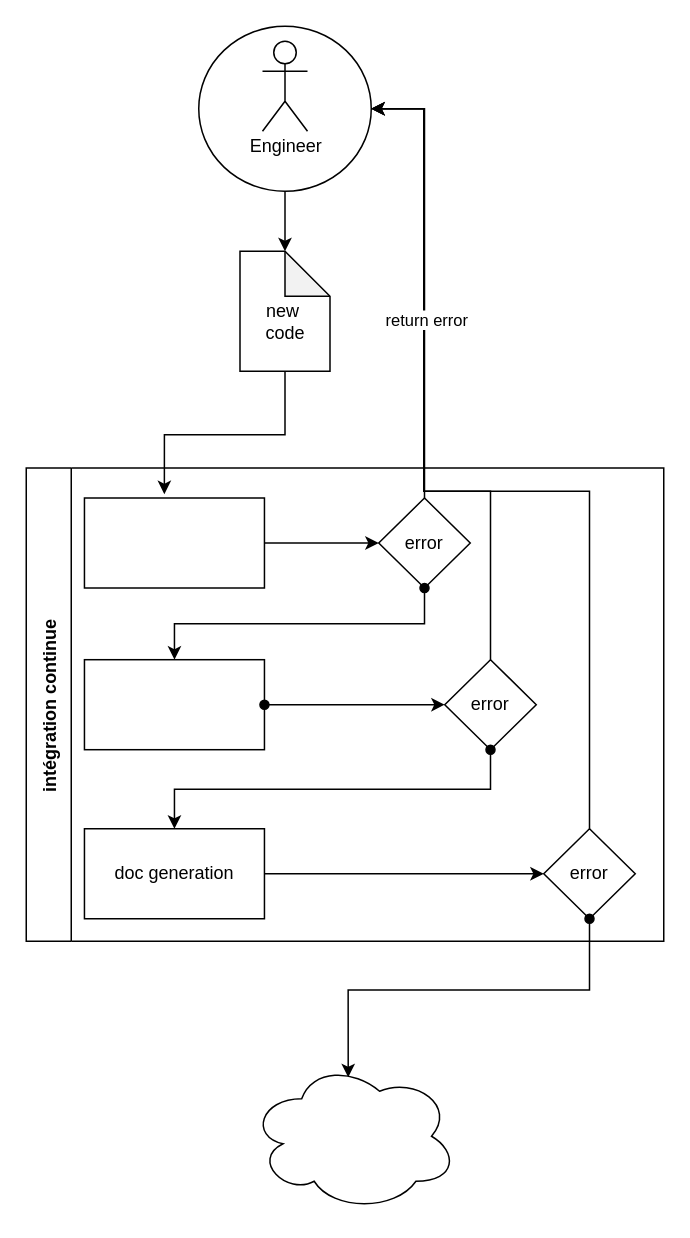
Some shapes in this 690 by 1238 pixel diagram are drawn without their labels. The box of each missing label's shape, as (x1, y1, x2, y2) in pixels:
GitLab: (248, 1060, 458, 1211)
gradle build: (83, 658, 264, 750)
java tests: (83, 496, 264, 588)
